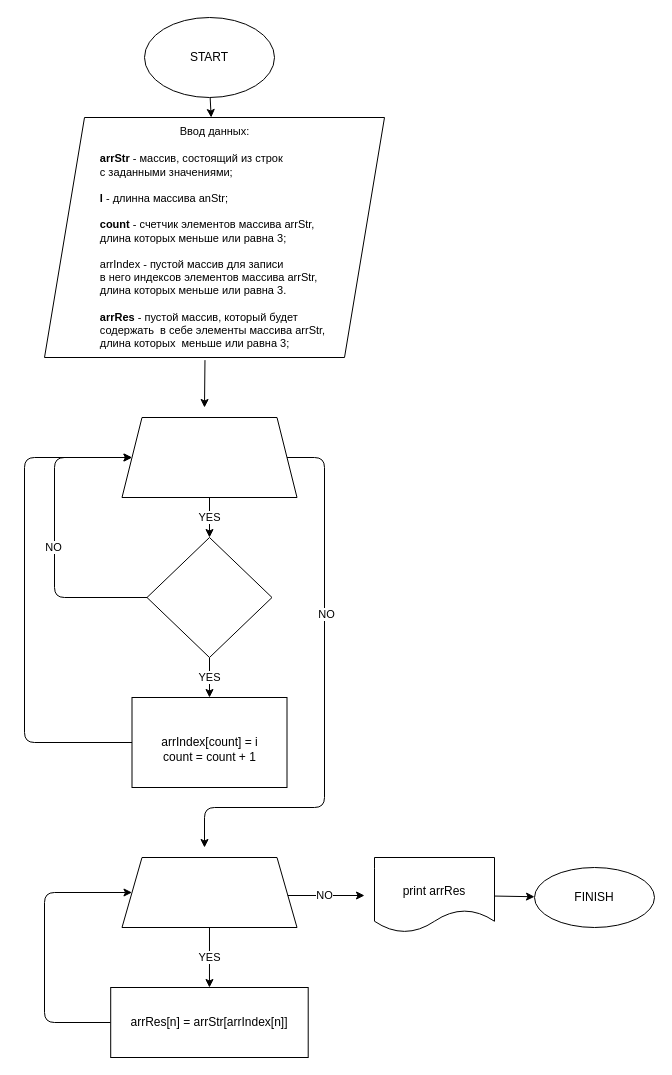
This 672x1075 diagram has some shape labels left out. The shapes that lost their labels are listed below. From the top down, each one's centre as x and y in pixels, then its label:
point 209,457: i = 0; i < l; i + 1
point 209,597: length(arrStr[i]) <= 3
point 209,892: n = 0; n < count; n + 1
